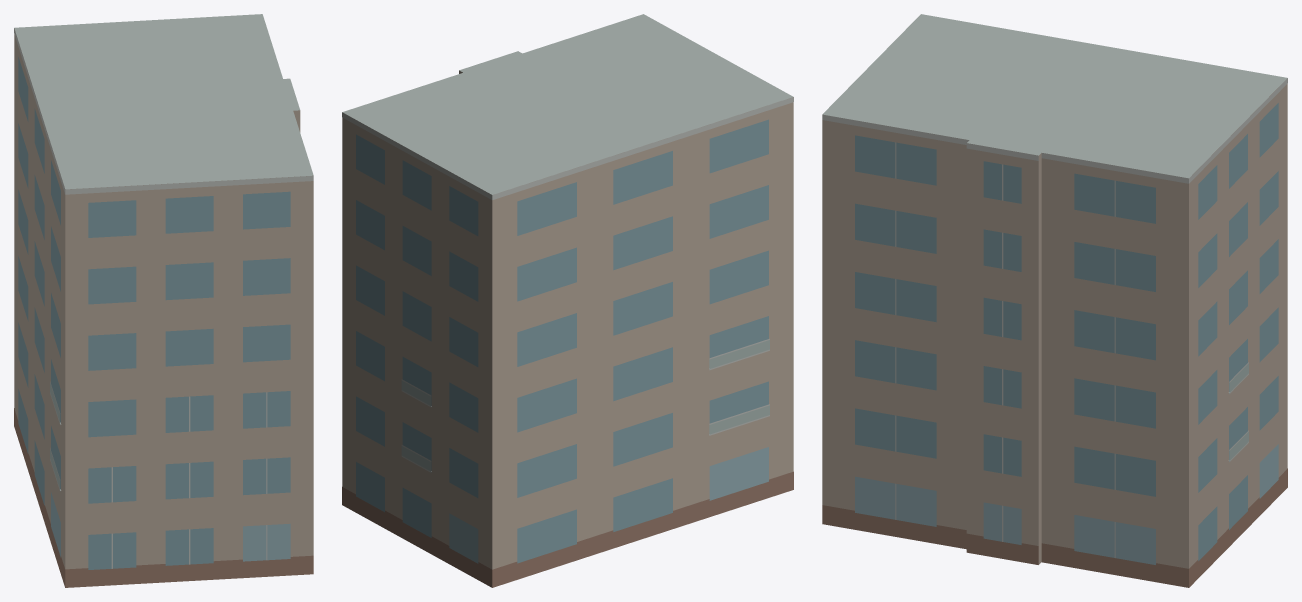
Rendered from survey-upis-32653919.glb.
3 views of the same model, side by side, from view 1: azimuth 30°, elevation 25°; view 2: azimuth 150°, elevation 25°; view 3: azimuth 270°, elevation 25° (orthographic). The views are drawn at different scales.
Parts seen in each view (by area): view 1: survey-upis-32653919.tmp; view 2: survey-upis-32653919.tmp; view 3: survey-upis-32653919.tmp.
Part boxes in pixels (box(x1,y1,x2,y2)): survey-upis-32653919.tmp: box(14, 14, 313, 587); survey-upis-32653919.tmp: box(342, 14, 793, 587); survey-upis-32653919.tmp: box(822, 14, 1287, 587).
Size of the model in its own units: 15.76 by 18.3 by 18.86.
